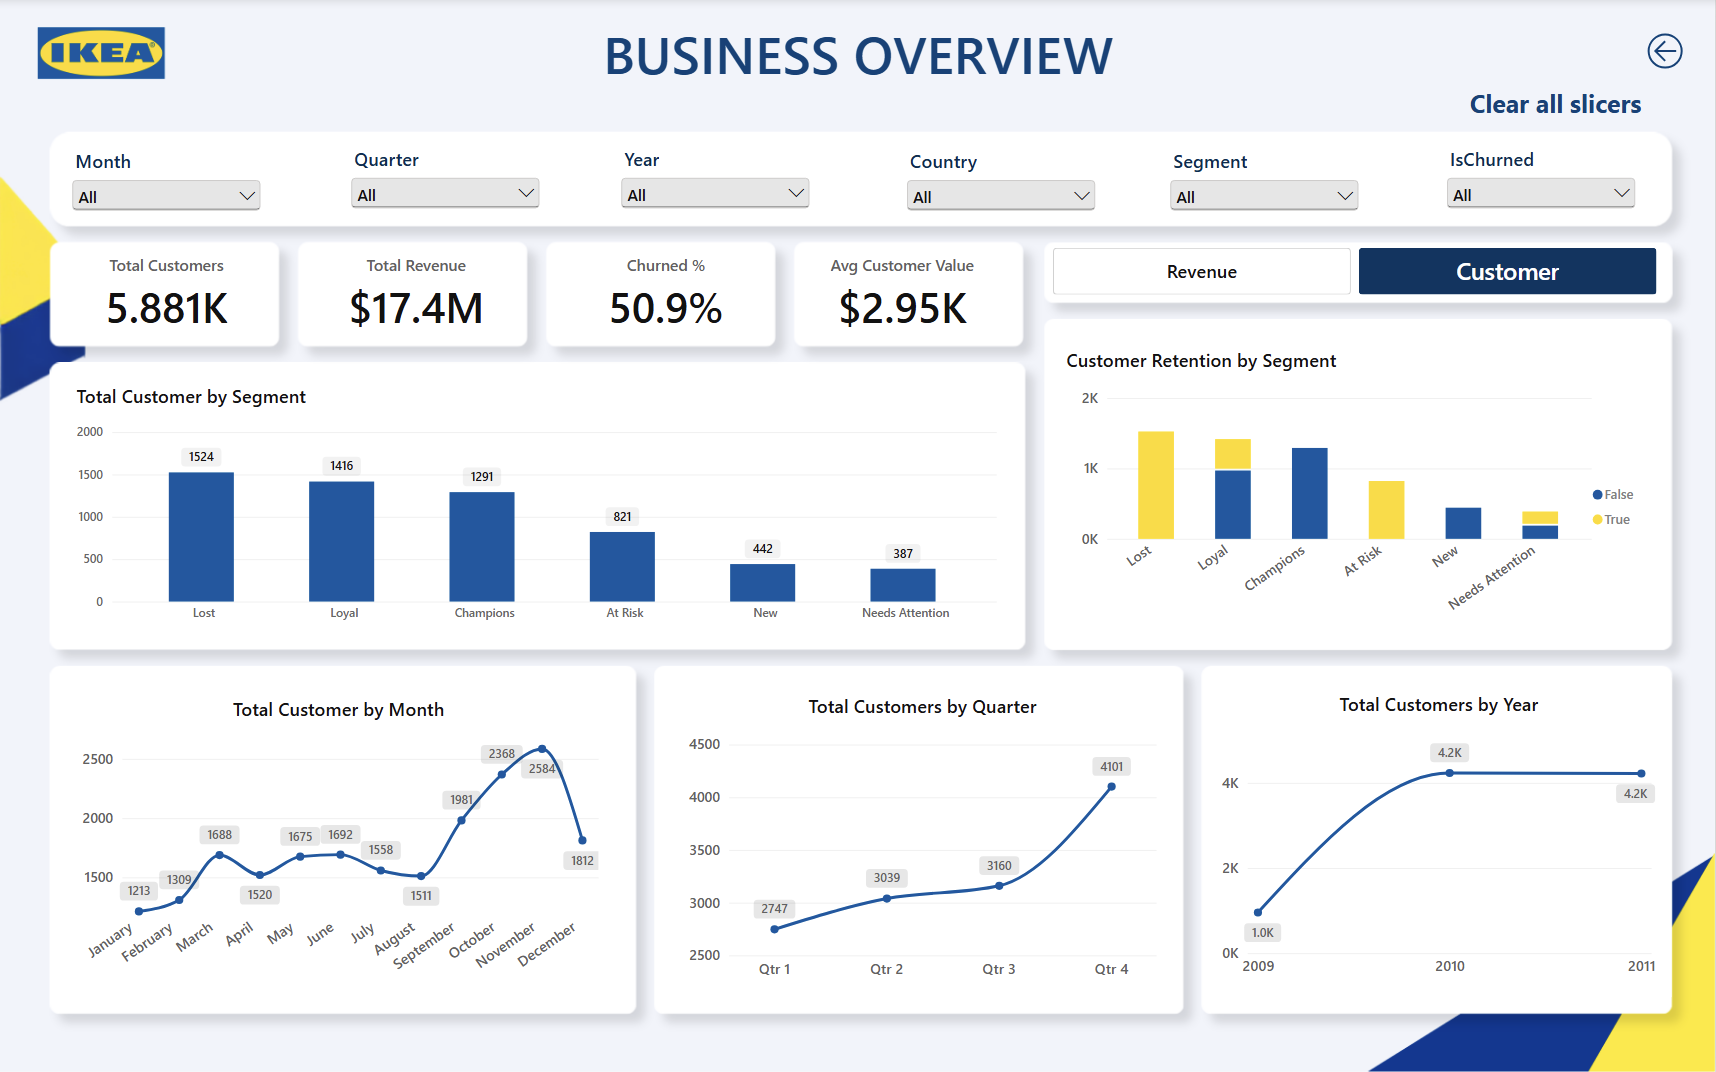

The page's visual inventory and layout, read from the dashboard file:
{"tool":"powerbi","page":{"name":"Business Overview","canvas":[1750,1100],"ordinal":1},"visuals":[{"type":"cardVisual","fields":{"Data":["measure.Total Customers"]},"box":[68.9,259.4,202,87.2],"z":0},{"type":"lineChart","fields":{"Category":["Sheet1.InvoiceMonth.Variation.Date Hierarchy.Year"],"Y":["measure.Total Customers"]},"box":[1230.6,693.2,475.3,326],"z":0,"group":"g1"},{"type":"cardVisual","fields":{"Data":["measure.Total Revenue"]},"box":[323.7,259.4,202,87.2],"z":1000},{"type":"columnChart","title":"Total Customer by Segment","fields":{"Category":["Sheet1.Segment"],"Y":["measure.Total Customers"]},"box":[62,378.3,971.2,277.8],"z":1000,"group":"g1"},{"type":"cardVisual","fields":{"Data":["measure.Churned %"]},"box":[578.6,259.4,202,87.2],"z":2000},{"type":"columnChart","title":"Customer Retention by Segment","fields":{"Category":["Sheet1.Segment"],"Series":["Sheet1.IsChurned"],"Y":["measure.Total Customers"]},"box":[1072.2,342.1,619.9,314.5],"z":2000,"group":"g1"},{"type":"cardVisual","fields":{"Data":["measure.Avg Customer Value"]},"box":[819.6,259.4,202,87.2],"z":3000},{"type":"lineChart","title":"Total Customer by Month","fields":{"Category":["Sheet1.InvoiceMonth.Variation.Date Hierarchy.Month"],"Y":["measure.Total Customers"]},"box":[63.7,697.4,562.5,326],"z":3000,"group":"g1"},{"type":"slicer","fields":{"Values":["Sheet1.InvoiceDate.Variation.Date Hierarchy.Month"]},"box":[68.9,153.8,202,80.4],"z":4000},{"type":"lineChart","fields":{"Category":["Sheet1.InvoiceMonth.Variation.Date Hierarchy.Quarter"],"Y":["measure.Total Customers"]},"box":[685.9,695.3,509.7,326],"z":4000,"group":"g1"},{"type":"slicer","fields":{"Values":["Sheet1.InvoiceDate.Variation.Date Hierarchy.Quarter"]},"box":[353.6,151.5,202,80.4],"z":5000},{"type":"slicer","fields":{"Values":["Sheet1.InvoiceDate.Variation.Date Hierarchy.Year"]},"box":[630,151.5,202,89.5],"z":6000},{"type":"slicer","fields":{"Values":["Sheet1.Country"]},"box":[920.7,153.8,202,89.5],"z":7000},{"type":"slicer","fields":{"Values":["Sheet1.Segment"]},"box":[1189.3,153.8,202,89.5],"z":8000},{"type":"slicer","fields":{"Values":["Sheet1.IsChurned"]},"box":[1471.7,151.5,202,89.5],"z":9000},{"type":"group","id":"g1","title":"Customer","box":[62,342.1,1643.9,681.4],"z":10000},{"type":"bookmarkNavigator","box":[1074.5,254.8,617.6,48.2],"z":12000},{"type":"image","box":[0,0,206.6,112.5],"z":13000},{"type":"textbox","box":[593.7,20.7,562.5,87.2],"z":14000},{"type":"actionButton","box":[1648.5,25.3,101,57.4],"z":15000},{"type":"actionButton","box":[1483.3,83.3,208.3,50],"z":16000}]}

Visuals, with their boxes in screenshot pixels (x1, y1, x2, y2), scaled from the page's 1750x1100 canvas onto the 1716x1072 screenshot:
cardVisual - measure.Total Customers: [68,253,266,338]
lineChart - Sheet1.InvoiceMonth.Variation.Date Hierarchy.Year x measure.Total Customers: [1207,676,1673,993]
cardVisual - measure.Total Revenue: [317,253,515,338]
"Total Customer by Segment" columnChart: [61,369,1013,639]
cardVisual - measure.Churned %: [567,253,765,338]
"Customer Retention by Segment" columnChart: [1051,333,1659,640]
cardVisual - measure.Avg Customer Value: [804,253,1002,338]
"Total Customer by Month" lineChart: [62,680,614,997]
slicer - Sheet1.InvoiceDate.Variation.Date Hierarchy.Month: [68,150,266,228]
lineChart - Sheet1.InvoiceMonth.Variation.Date Hierarchy.Quarter x measure.Total Customers: [673,678,1172,995]
slicer - Sheet1.InvoiceDate.Variation.Date Hierarchy.Quarter: [347,148,545,226]
slicer - Sheet1.InvoiceDate.Variation.Date Hierarchy.Year: [618,148,816,235]
slicer - Sheet1.Country: [903,150,1101,237]
slicer - Sheet1.Segment: [1166,150,1364,237]
slicer - Sheet1.IsChurned: [1443,148,1641,235]
"Customer" group: [61,333,1673,997]
bookmarkNavigator: [1054,248,1659,295]
image: [0,0,203,110]
textbox: [582,20,1134,105]
actionButton: [1616,25,1715,81]
actionButton: [1454,81,1659,130]
